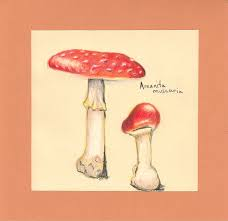Amanita muscaria: (41, 42, 146, 180), (113, 98, 168, 195)
